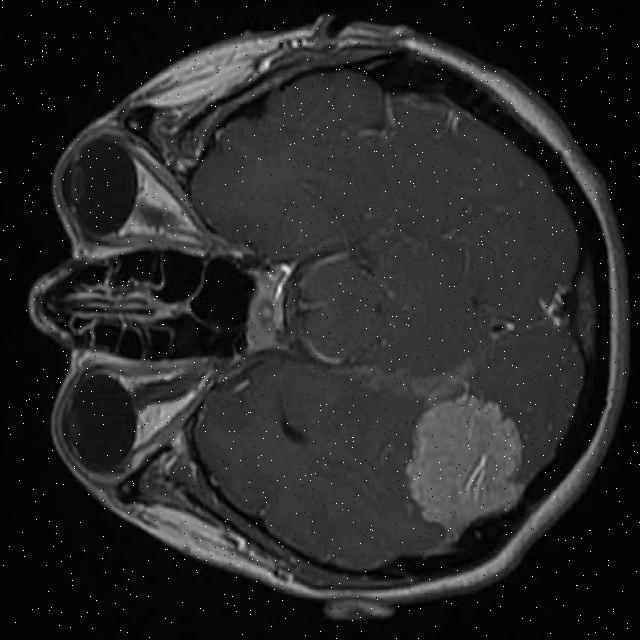Meningioma: (406, 393, 521, 535)
